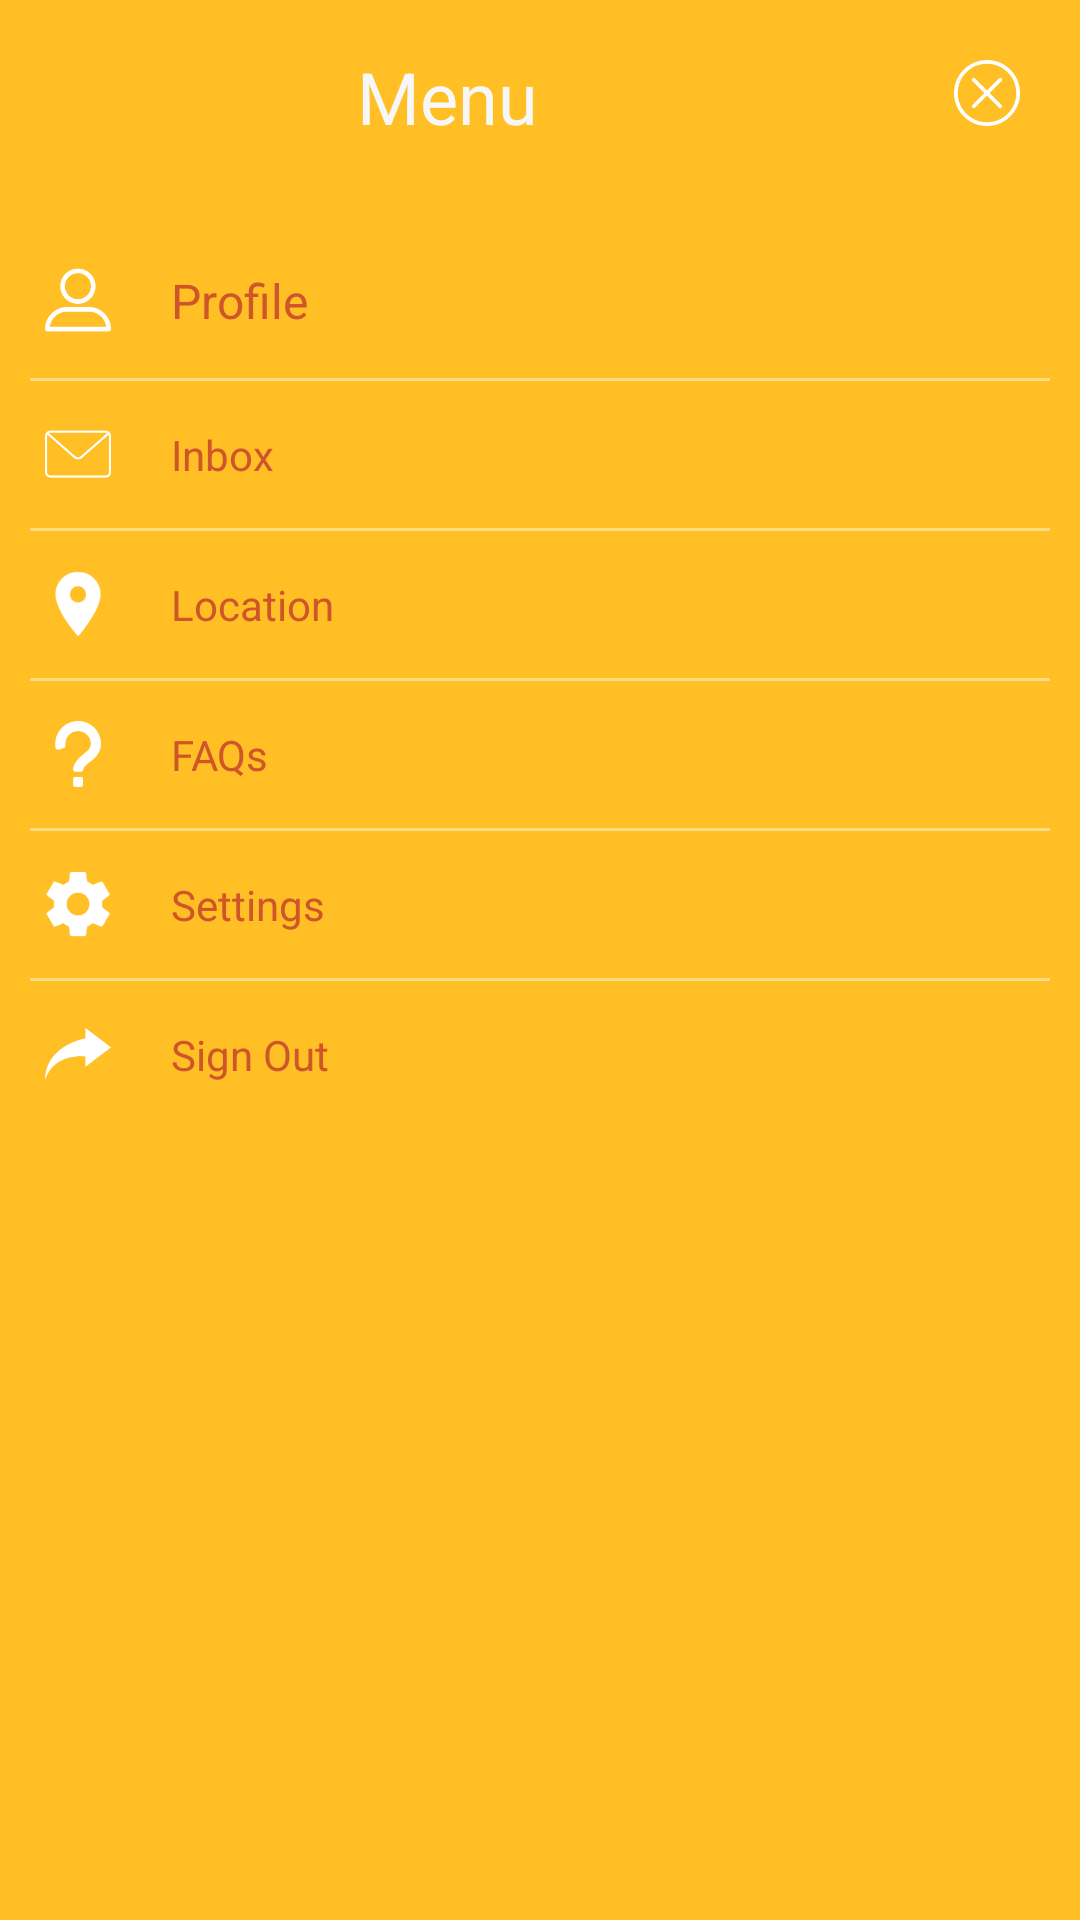

Locate icon controls on the screen. Image size 1080 x 1920, boxes as bbox=(x1, y1, x2, y2).
cancel: bbox=(954, 60, 1020, 126)
mail: bbox=(45, 430, 111, 478)
question: bbox=(55, 721, 101, 787)
